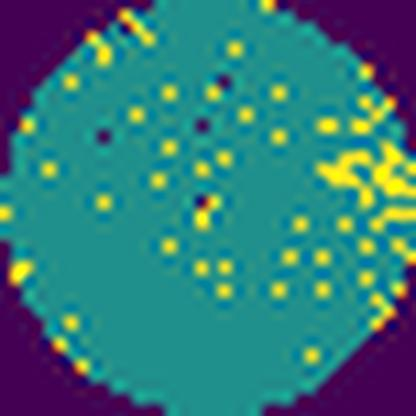Loc: (314, 138, 416, 207)
